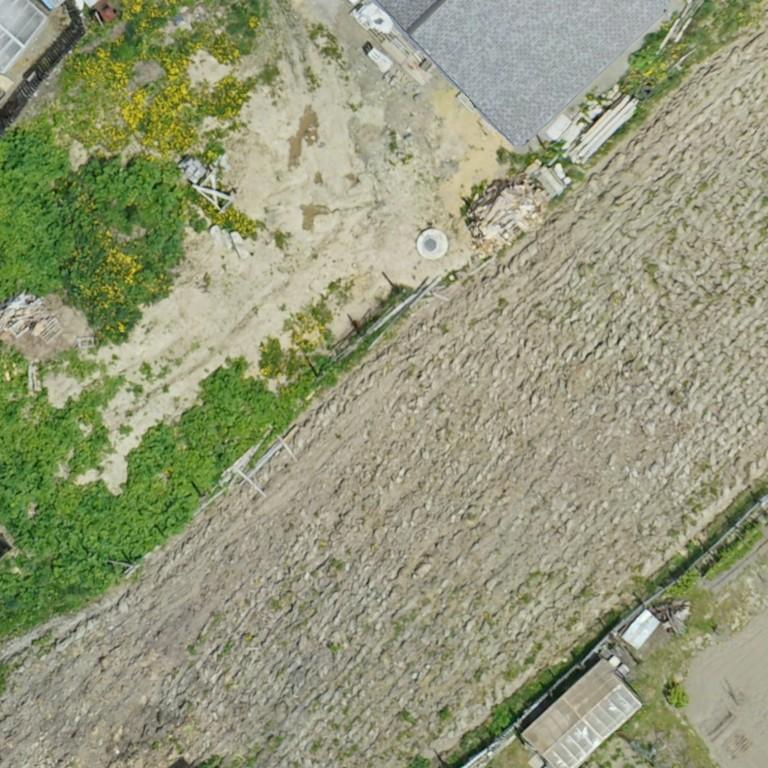hogweed: (0, 358, 304, 638), (0, 130, 72, 297), (80, 157, 185, 256)
